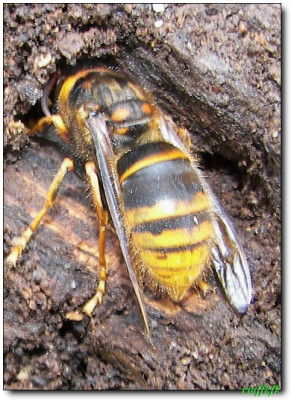asian_giant_hornet: (39, 68, 223, 303)
